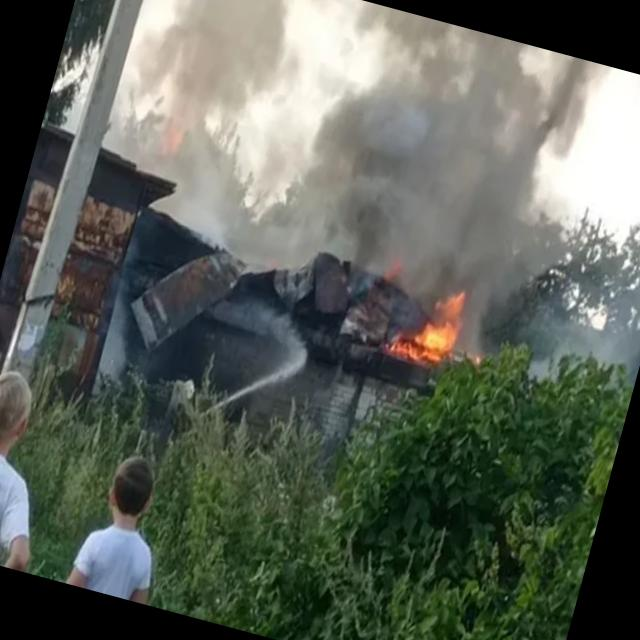Smoke: (75, 0, 602, 376)
